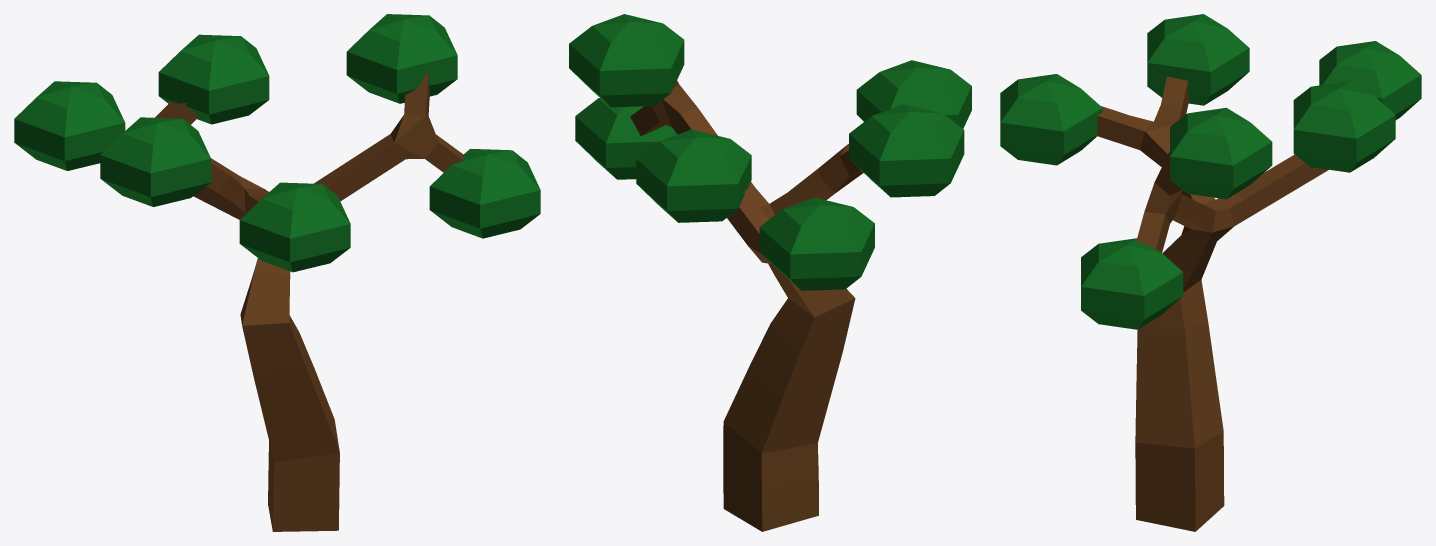
File: tree.fbx
The picture shows the model from 3 angles, left to right: view 1: azimuth 30°, elevation 25°; view 2: azimuth 150°, elevation 25°; view 3: azimuth 270°, elevation 25°; orthographic projection. The views are drawn at different scales.
Parts seen in each view (by area): view 1: Cube, Sphere.002, Sphere.003, Sphere.004, Sphere.001, Sphere.005, Sphere.006; view 2: Cube, Sphere.006, Sphere.003, Sphere.005, Sphere.001, Sphere.002, Sphere.004; view 3: Cube, Sphere.001, Sphere.005, Sphere.004, Sphere.002, Sphere.003, Sphere.006.
Boxes of the visible parts, x1=… form: Cube: x1=155, y1=71, x2=463, y2=531; Sphere.002: x1=239, y1=182, x2=350, y2=272; Sphere.003: x1=100, y1=117, x2=211, y2=206; Sphere.004: x1=429, y1=148, x2=540, y2=238; Sphere.001: x1=158, y1=34, x2=269, y2=124; Sphere.005: x1=346, y1=14, x2=457, y2=103; Sphere.006: x1=14, y1=81, x2=125, y2=170; Cube: x1=630, y1=80, x2=863, y2=531; Sphere.006: x1=759, y1=197, x2=874, y2=290; Sphere.003: x1=849, y1=104, x2=964, y2=197; Sphere.005: x1=569, y1=14, x2=684, y2=107; Sphere.001: x1=636, y1=129, x2=751, y2=222; Sphere.002: x1=856, y1=60, x2=971, y2=128; Sphere.004: x1=575, y1=98, x2=677, y2=179; Cube: x1=1096, y1=76, x2=1328, y2=531; Sphere.001: x1=1293, y1=81, x2=1395, y2=172; Sphere.005: x1=1170, y1=107, x2=1272, y2=199; Sphere.004: x1=1081, y1=238, x2=1183, y2=329; Sphere.002: x1=1000, y1=74, x2=1102, y2=165; Sphere.003: x1=1147, y1=14, x2=1249, y2=105; Sphere.006: x1=1319, y1=41, x2=1421, y2=119.
Bounding box in the file's own units: 481 × 532 × 445.
